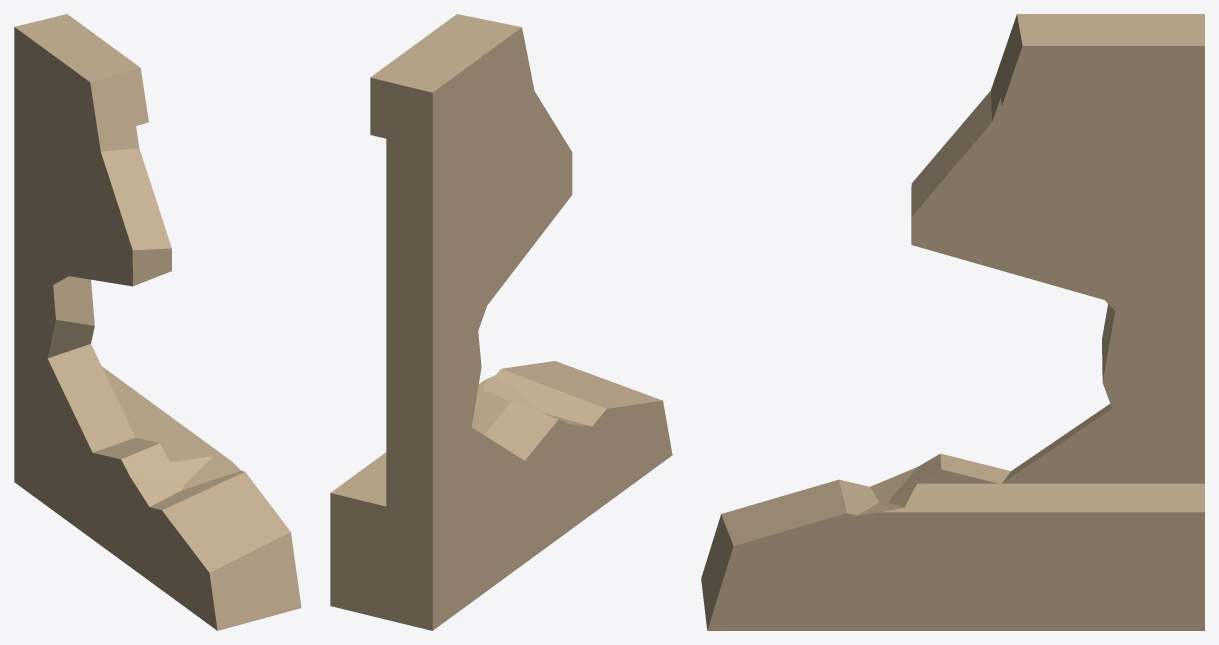
File: SM_wall_debris_01.fbx
3 renders of one model, left to right at view 1: azimuth 30°, elevation 25°; view 2: azimuth 150°, elevation 25°; view 3: azimuth 270°, elevation 25°, orthographic. The views are drawn at different scales.
Parts seen in each view (by area): view 1: wall_debris_01; view 2: wall_debris_01; view 3: wall_debris_01.
Boxes of the visible parts, box(x1,y1,x2,y2) form: wall_debris_01: box(14, 14, 301, 630); wall_debris_01: box(330, 14, 672, 630); wall_debris_01: box(701, 14, 1204, 630).
Bounding box in the file's own units: 99.27 × 500 × 404.
